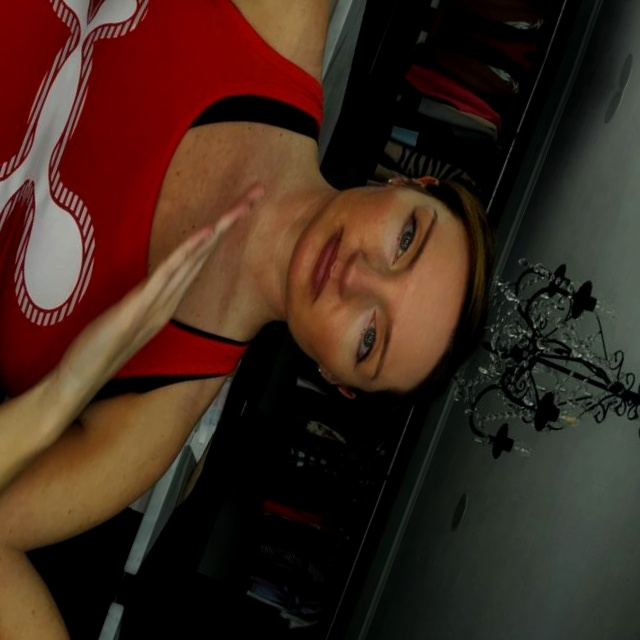Paper: (33, 134, 267, 459)
